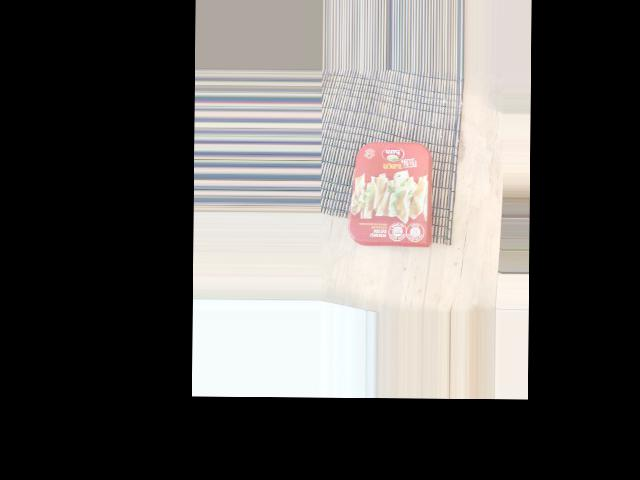cheese: (354, 148, 431, 264)
